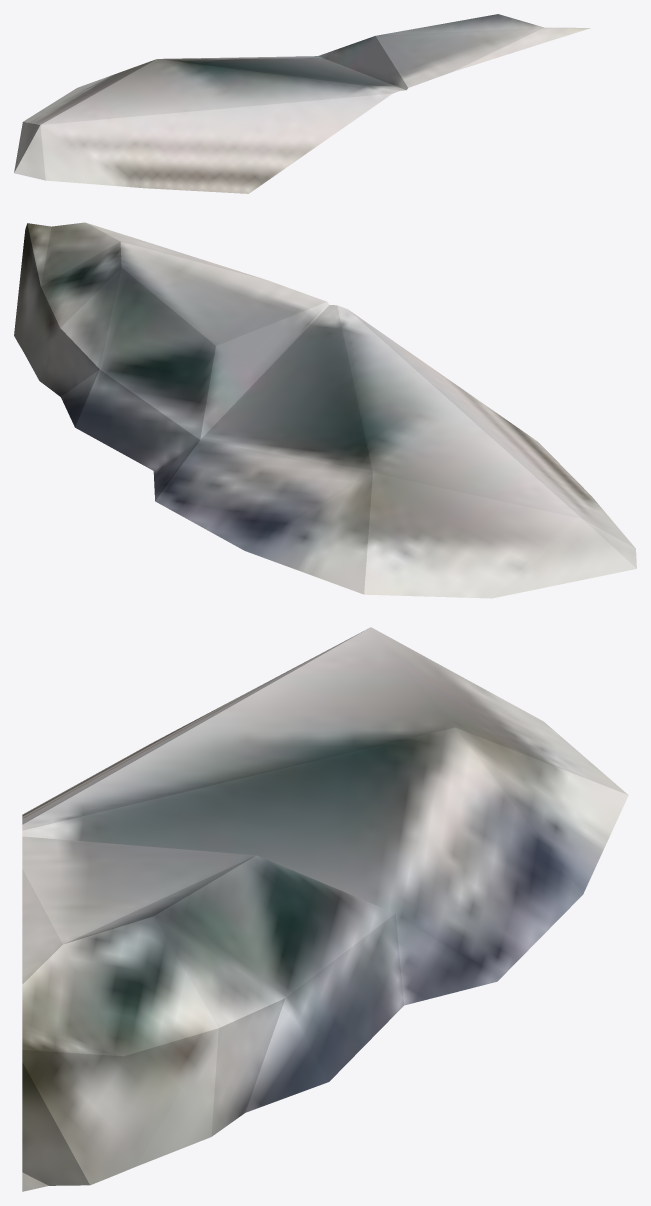
3 renders of one model, top to bottom at view 1: azimuth 30°, elevation 25°; view 2: azimuth 150°, elevation 25°; view 3: azimuth 270°, elevation 25°, orthographic. The views are drawn at different scales.
Size of the model in its own units: 2.16 by 0.3299 by 1.04.
Materials: 1 (1 with a texture image).
